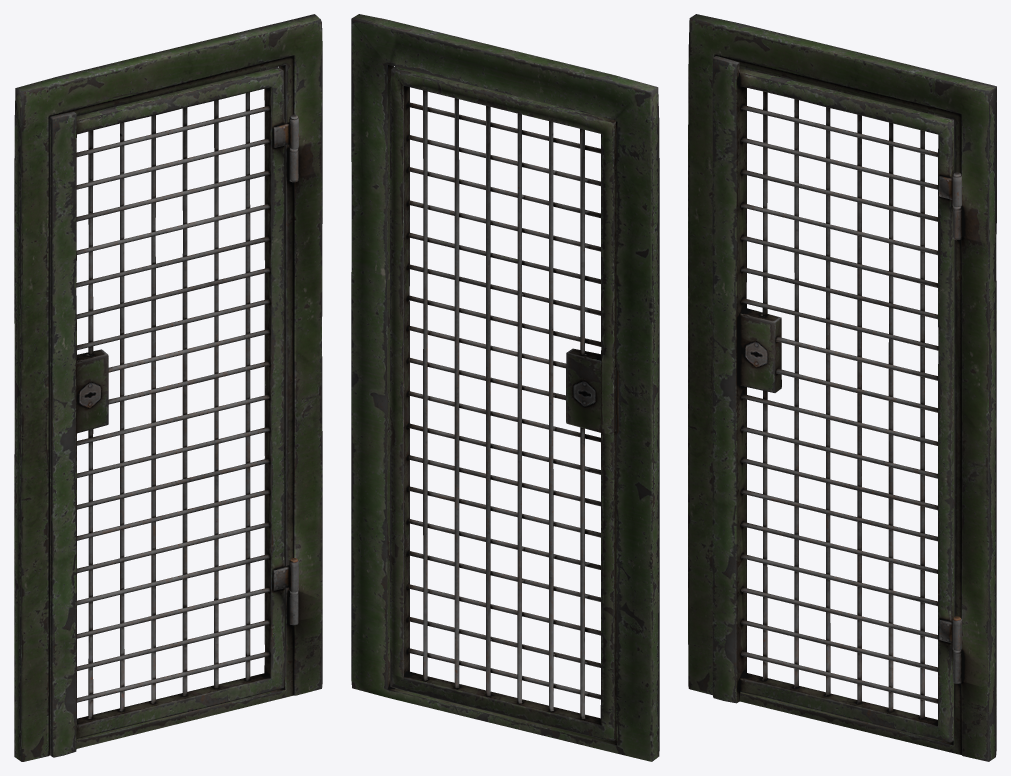
The model's file is grid_gate.fbx.
The picture shows the model from 3 angles, left to right: view 1: azimuth 30°, elevation 25°; view 2: azimuth 150°, elevation 25°; view 3: azimuth 330°, elevation 25°; orthographic projection.
Parts seen in each view (by area): view 1: Object_2; view 2: Object_2; view 3: Object_2.
Part boxes in pixels (left/top/right/bottom): Object_2: left=14, top=14, right=322, bottom=761; Object_2: left=351, top=14, right=659, bottom=761; Object_2: left=688, top=14, right=996, bottom=761.
Bounding box in the file's own units: 121 × 259 × 8.29.
Materials: 1 (1 with a texture image).
